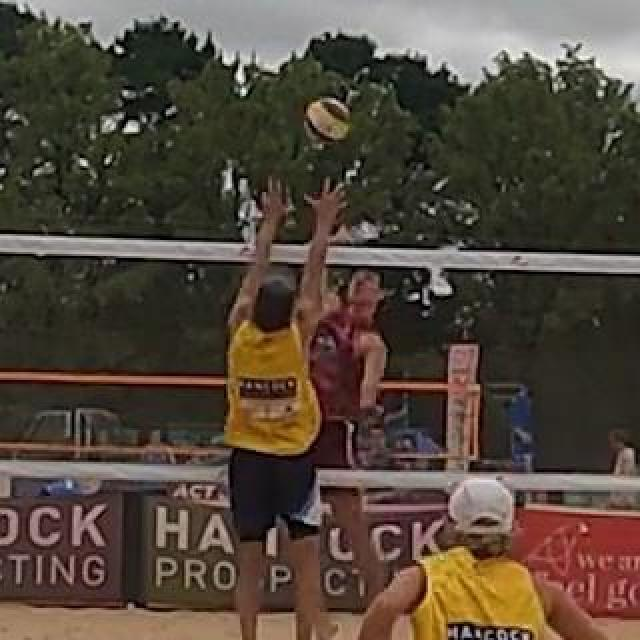volleyball: (305, 97, 349, 143)
